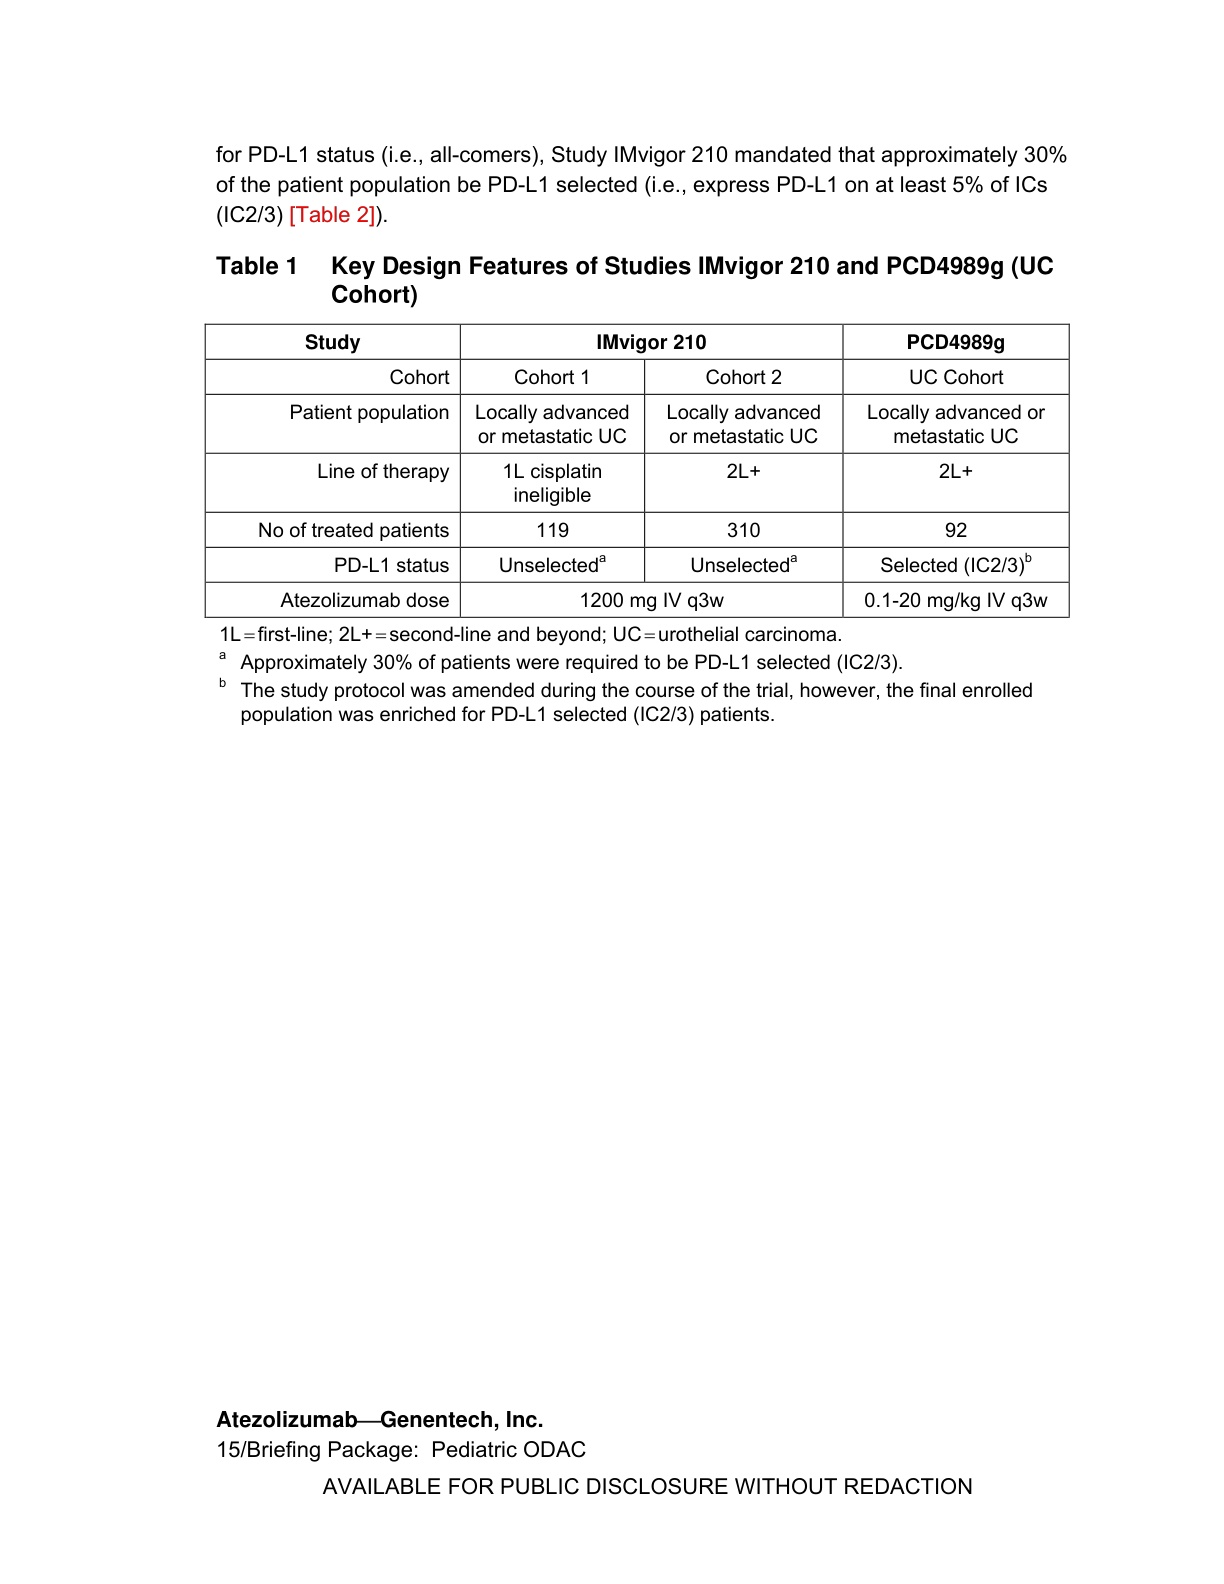merged_cells: (204, 323, 1070, 618)
